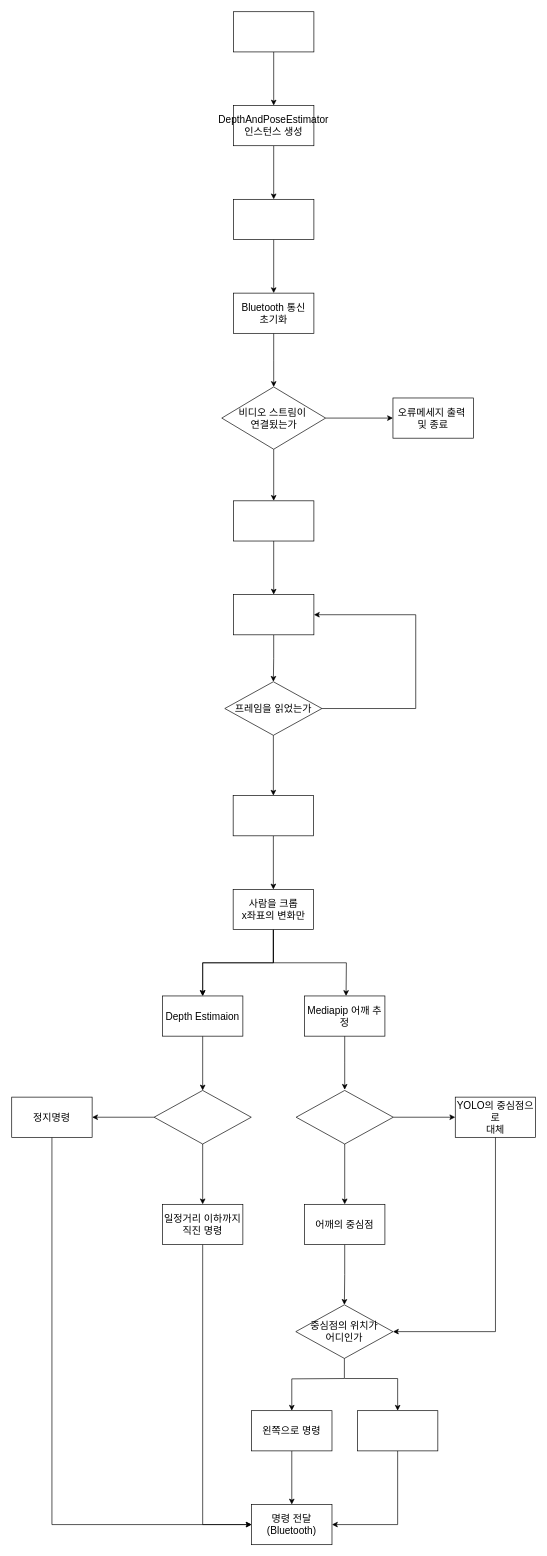
This 547x1556 diagram has some shape labels left out. Each missing label, with the centre of its shape:
"YOLO를 통한 객체인식" belongs at point (273, 815).
"라즈베리 연결" belongs at point (273, 520).
"비디오 프레임 읽기" belongs at point (273, 614).
"비디오스트림 초기화" belongs at point (273, 219).
"설정한 거리 이상인가" belongs at point (202, 1117).
"시작" belongs at point (273, 31).
"어깨추정했는가" belongs at point (344, 1117).
"오른쪽으로 명령" belongs at point (397, 1430).
